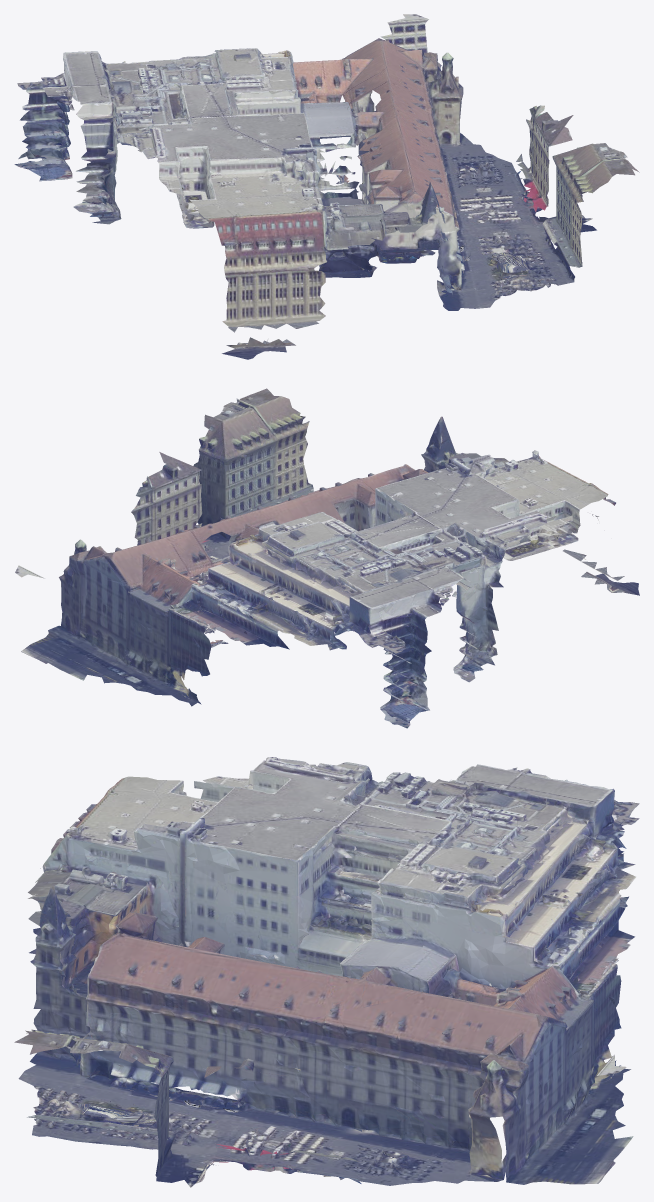
The picture shows the model from 3 angles, top to bottom: view 1: azimuth 30°, elevation 25°; view 2: azimuth 150°, elevation 25°; view 3: azimuth 270°, elevation 25°; orthographic projection. The views are drawn at different scales.
Size of the model in its own units: 108 by 35.34 by 109.
1 material, 1 textured.
